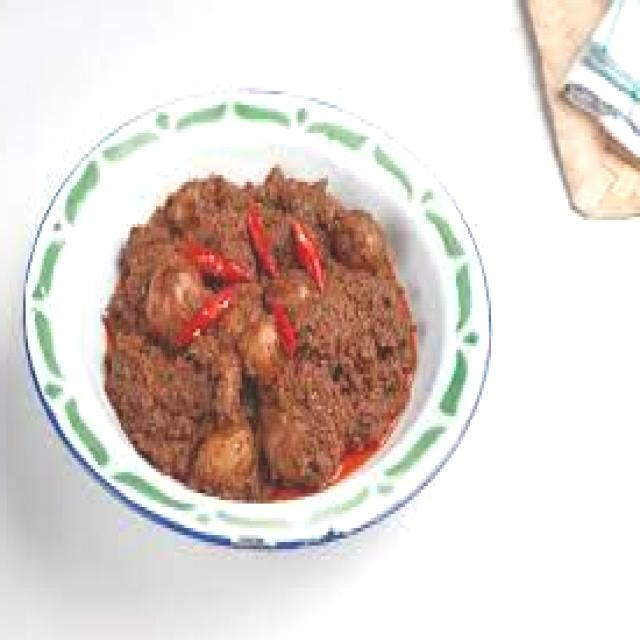rendang: (98, 164, 428, 507)
